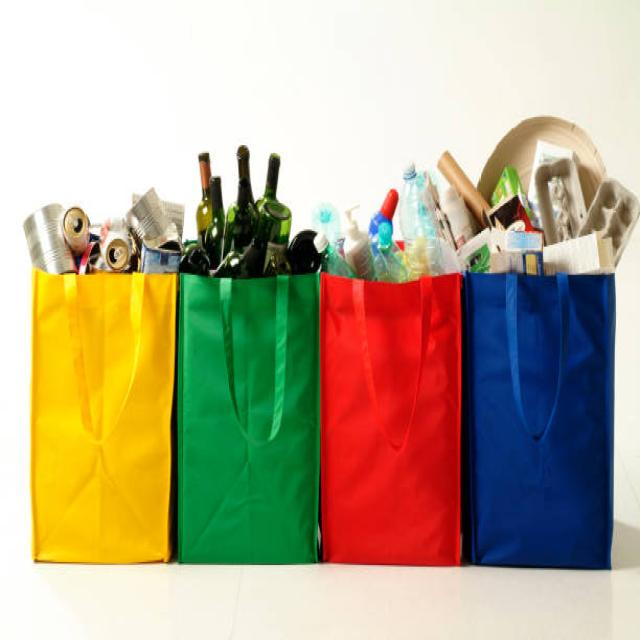cardboard: (453, 119, 620, 273)
glass: (182, 130, 314, 270)
metal: (20, 168, 181, 268)
plastic: (323, 132, 452, 272)
